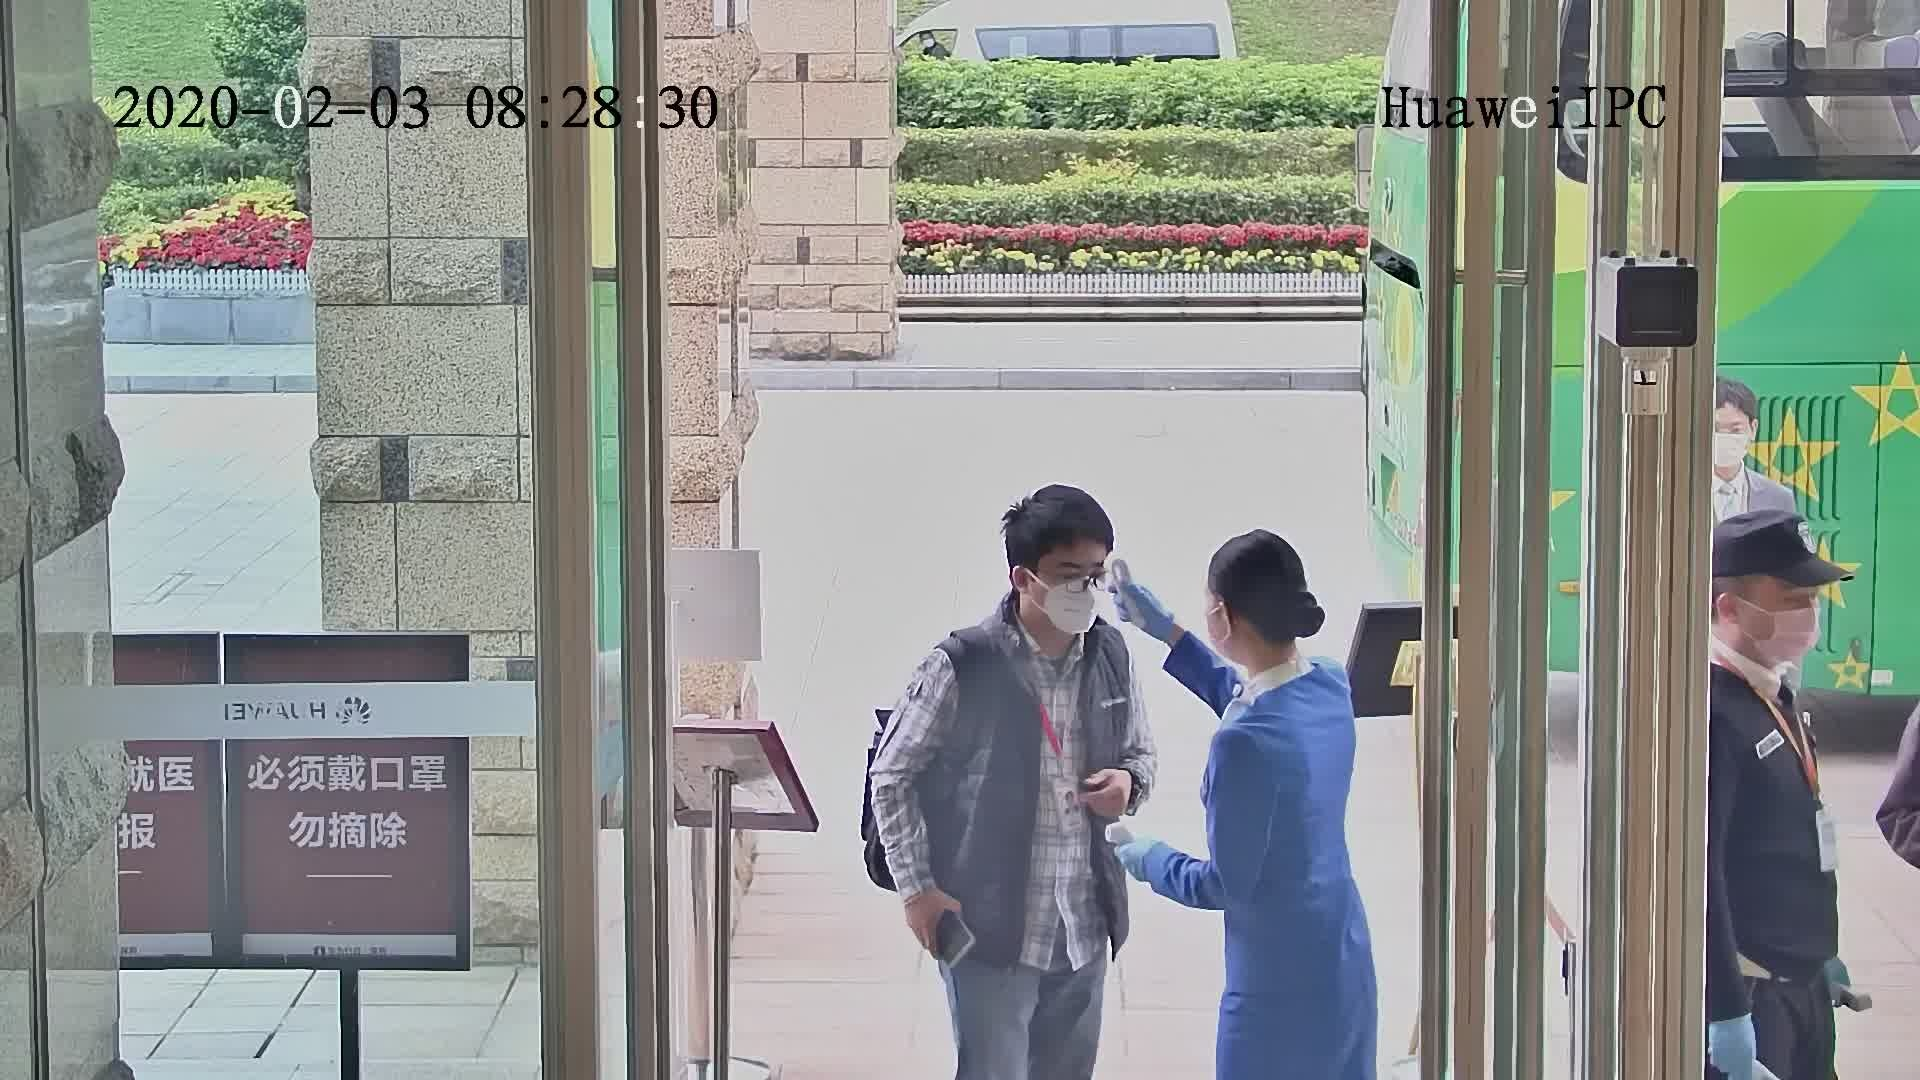face: (1026, 536, 1116, 626), (1743, 569, 1820, 669), (1714, 409, 1756, 473)
mask: (1754, 600, 1825, 669), (1043, 575, 1105, 638), (1714, 429, 1756, 471)
person: (913, 478, 1140, 717), (1198, 520, 1360, 783), (1703, 511, 1830, 770), (1705, 383, 1790, 519)
